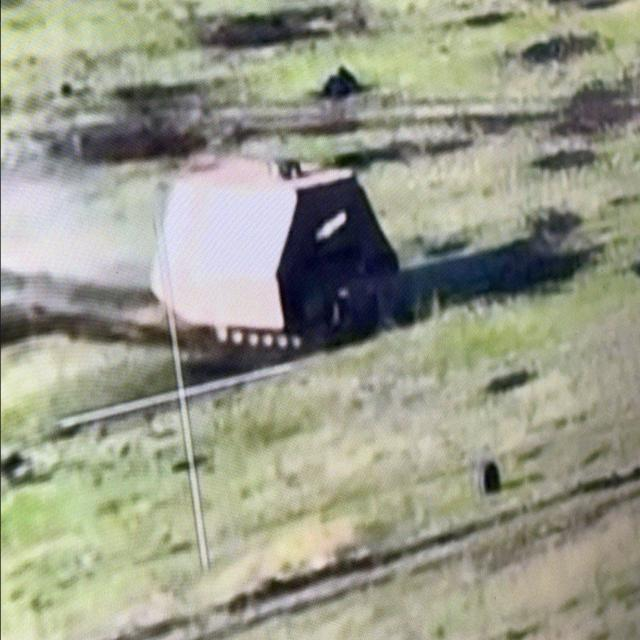vehicle: (149, 153, 401, 355)
